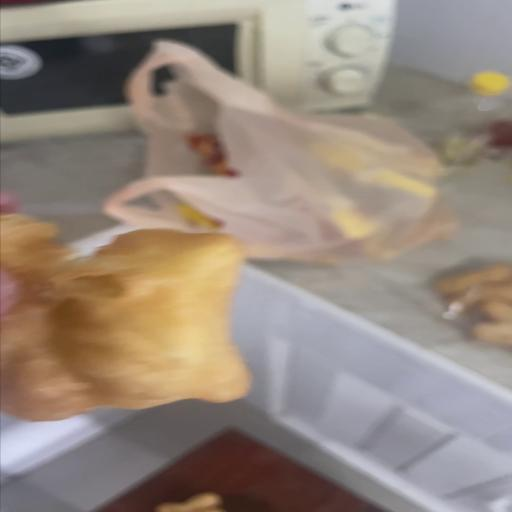street_golden_defect: (0, 215, 250, 419)
